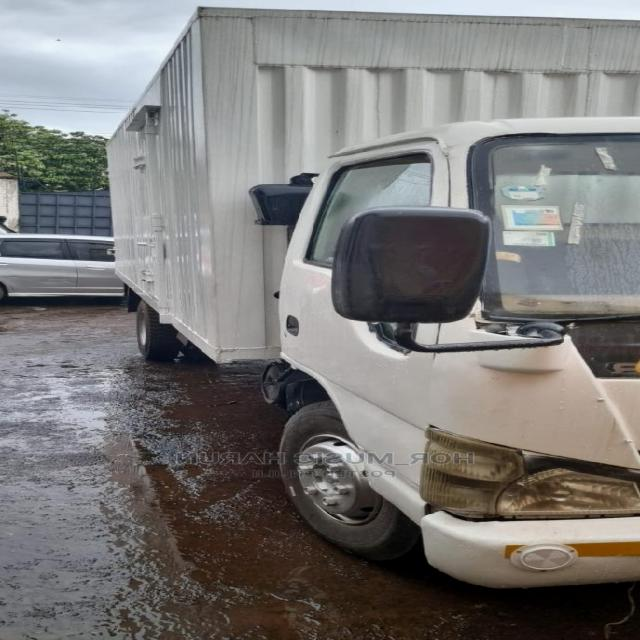Car: (0, 222, 130, 306)
Truck: (80, 0, 640, 588)
